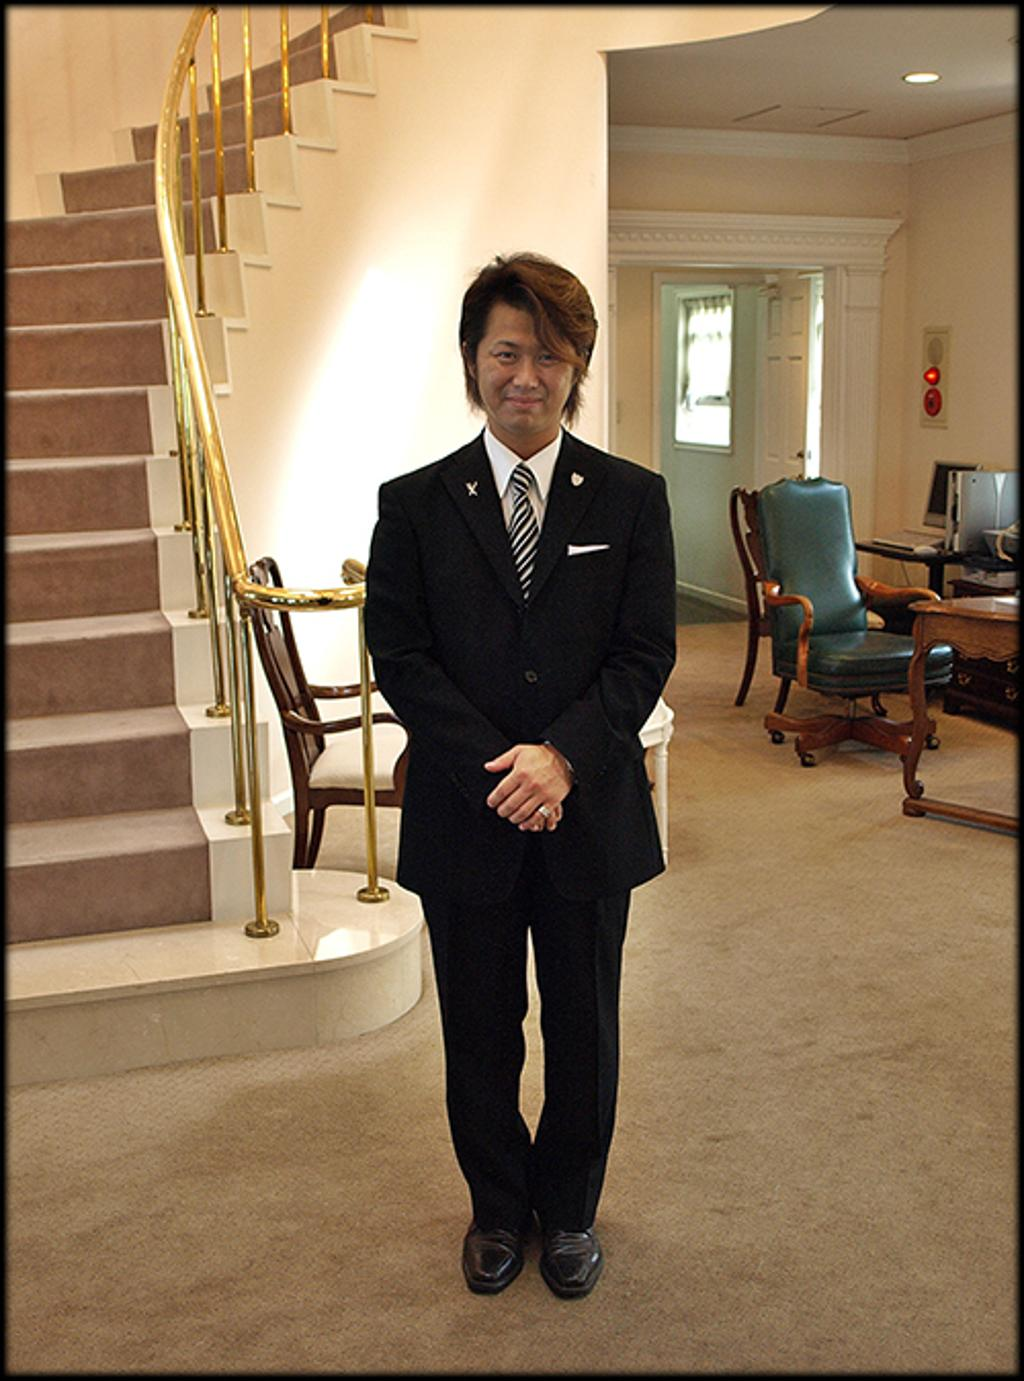face: (472, 288, 572, 434)
